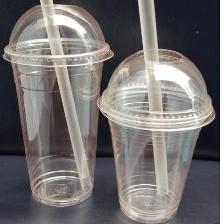drinking_straw: (36, 0, 93, 191), (135, 0, 172, 199)
glass: (0, 2, 115, 208), (94, 42, 224, 224)
